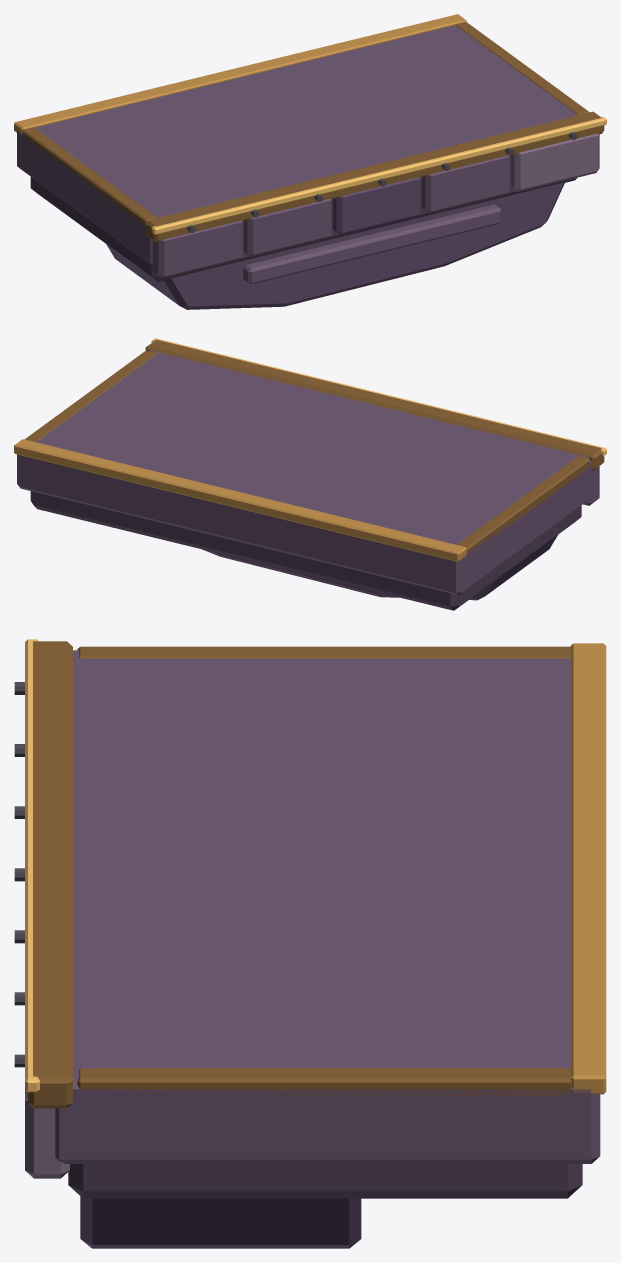
The model's file is SM_Vault_RetakeDeck_05.fbx.
3 views of the same model, one above another, from view 1: azimuth 30°, elevation 25°; view 2: azimuth 150°, elevation 25°; view 3: azimuth 270°, elevation 25° (orthographic). The views are drawn at different scales.
Parts seen in each view (by area): view 1: SM_Vault_RetakeDeck_05; view 2: SM_Vault_RetakeDeck_05; view 3: SM_Vault_RetakeDeck_05.
Boxes of the visible parts, x1,y1,x2,y2 form: SM_Vault_RetakeDeck_05: [14, 14, 606, 309]; SM_Vault_RetakeDeck_05: [14, 338, 606, 610]; SM_Vault_RetakeDeck_05: [14, 639, 606, 1248].
Bounding box in the file's own units: 350 × 198 × 93.
